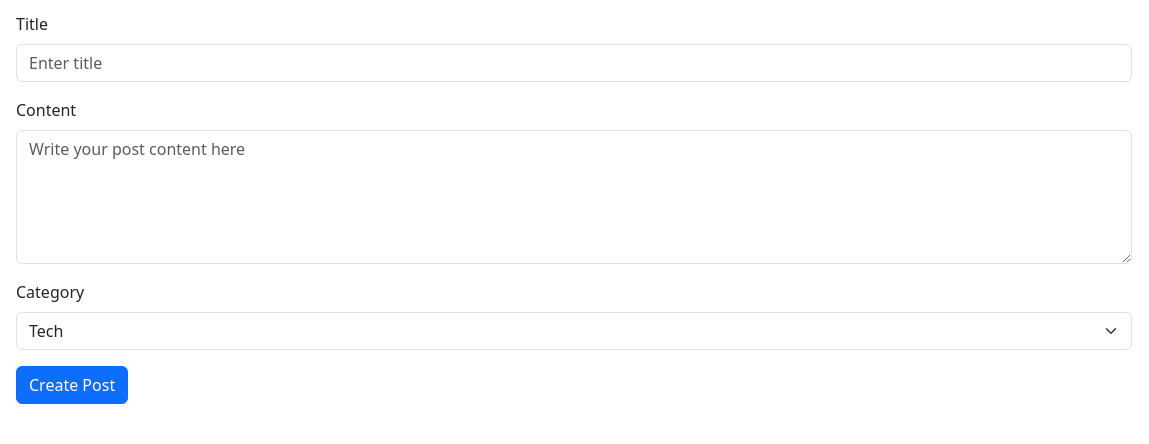
Test case: navigates to CreatePost and submits post
Type "New Post" into the field with placeholder "Enter title" at (574, 63), box left=16, top=44, right=1132, bottom=82
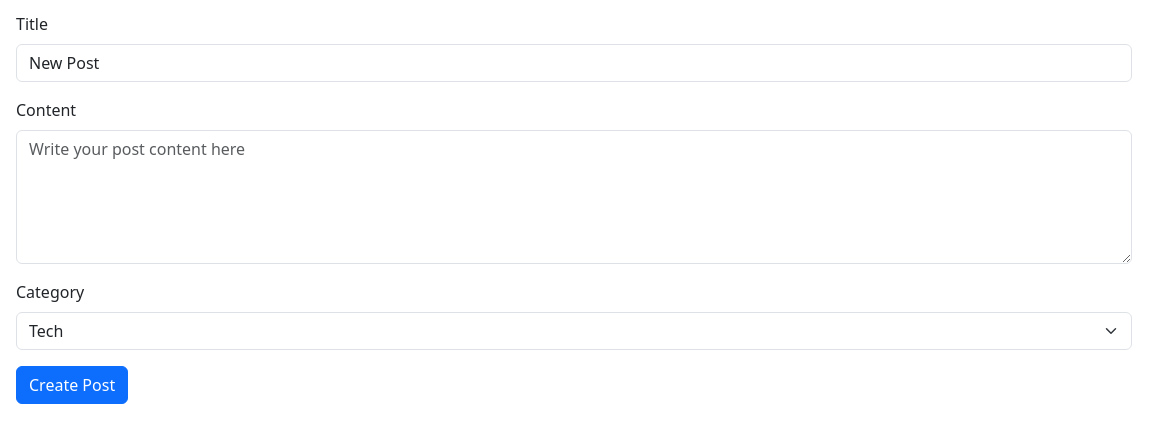
Type "Post content here" into the text box with placeholder "Write your post content here" at (574, 197), box left=16, top=130, right=1132, bottom=264
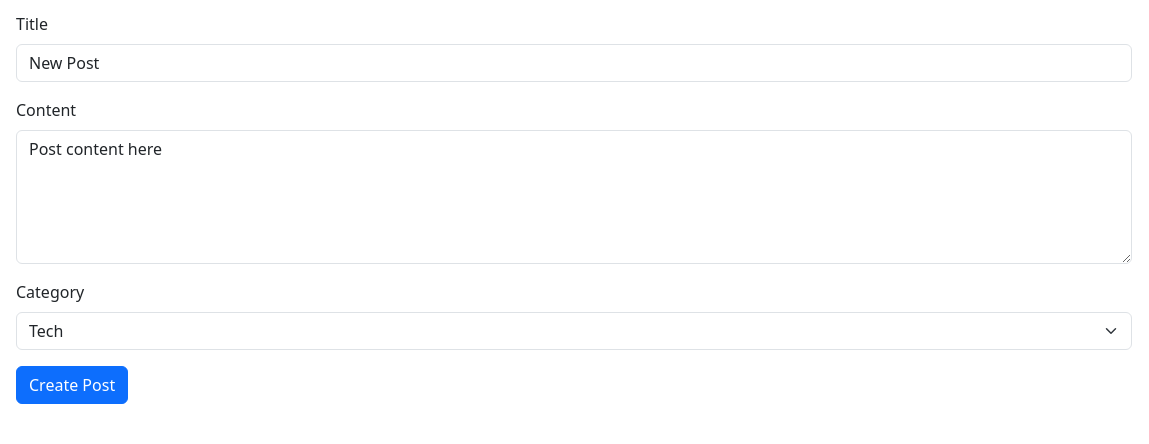
Click the button "Create Post" at (72, 385), box left=16, top=366, right=128, bottom=404
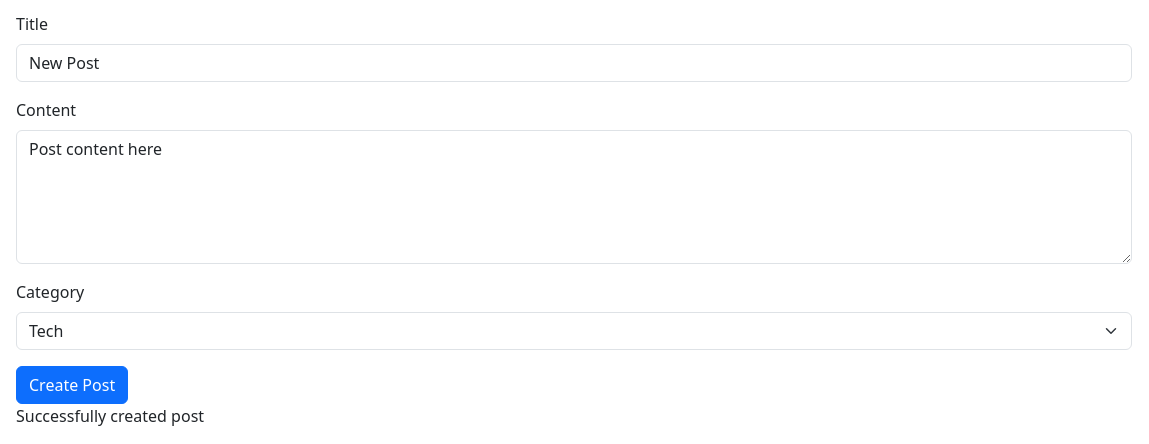
Now the text "Successfully created post" is shown, box left=16, top=405, right=204, bottom=427
